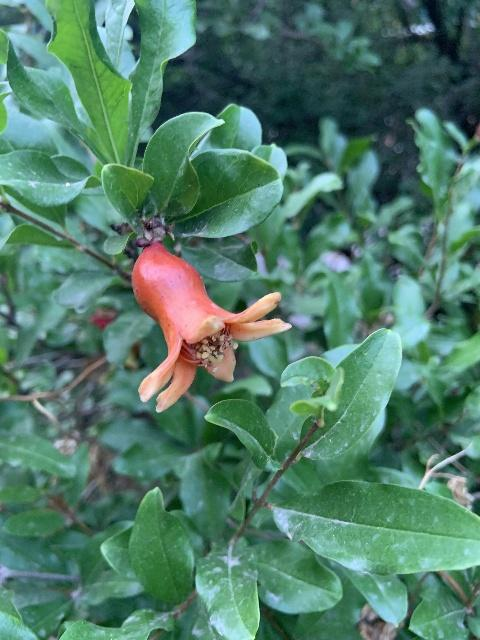flower: (131, 243, 292, 413)
